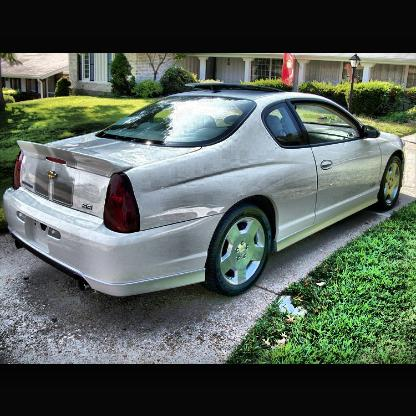Chevrolet Monte Carlo Coupe 2007: (2, 84, 410, 305)
